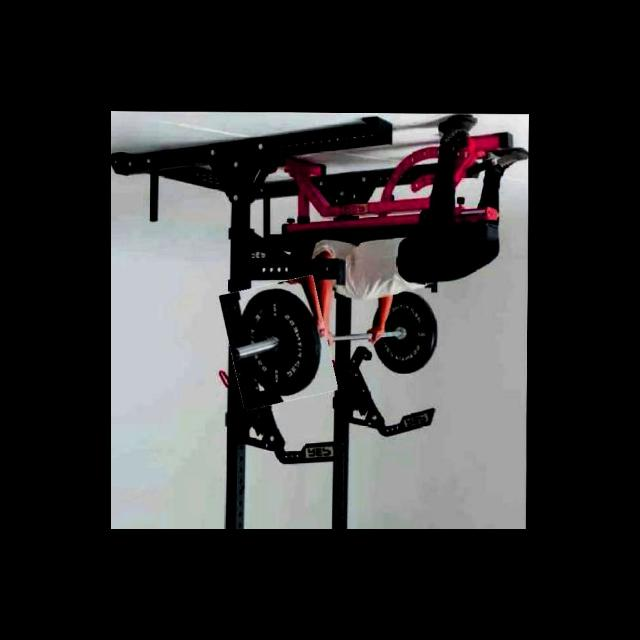barbell: (223, 278, 333, 406)
